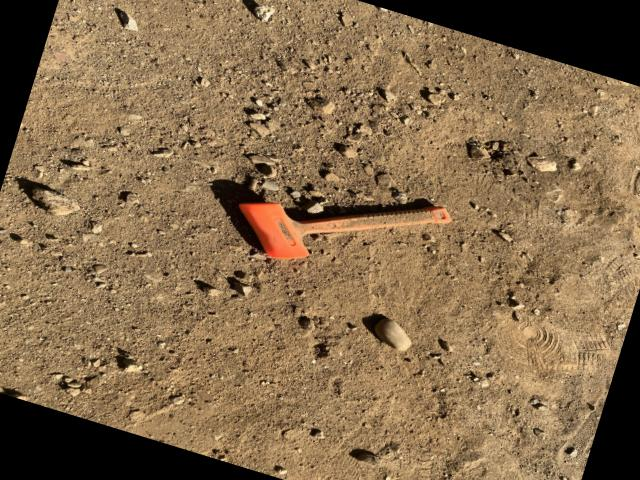hammer: (226, 148, 457, 305)
